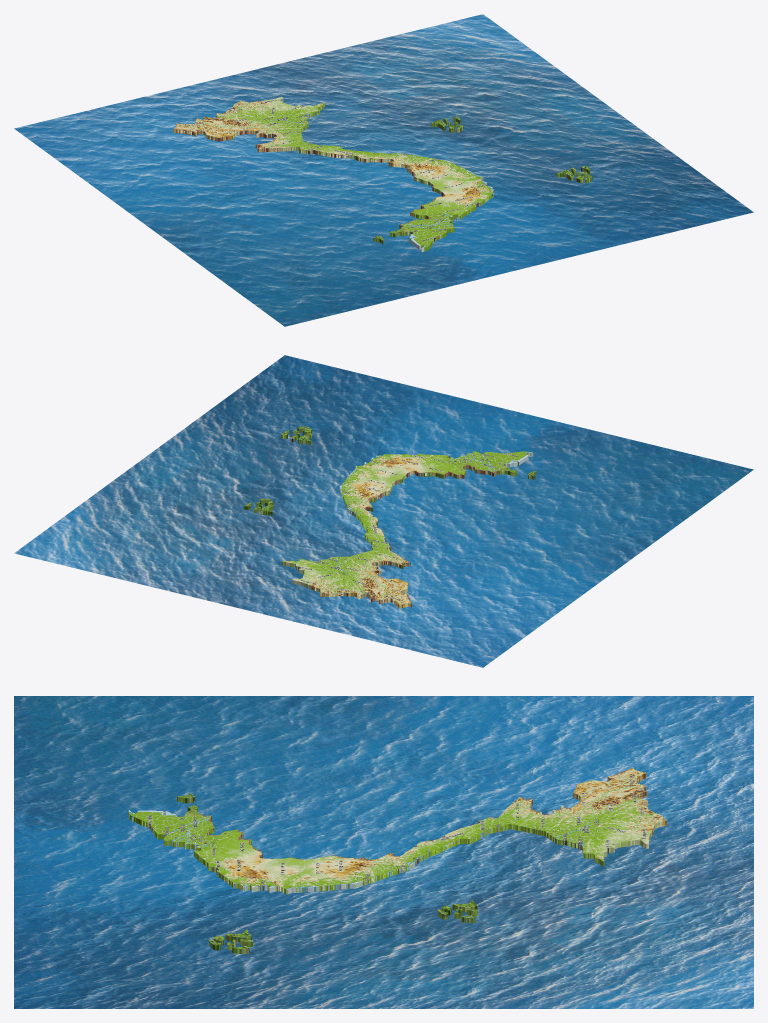
The model's file is mapvn.fbx.
3 renders of one model, top to bottom at view 1: azimuth 30°, elevation 25°; view 2: azimuth 150°, elevation 25°; view 3: azimuth 270°, elevation 25°, orthographic. The views are drawn at different scales.
Visible parts, largest first — view 1: pPlane1, nurbsToPoly7; view 2: pPlane1, nurbsToPoly7; view 3: pPlane1, nurbsToPoly7.
Boxes of the visible parts, <box> form: pPlane1: <box>14,14,753,326</box>; nurbsToPoly7: <box>173,97,592,252</box>; pPlane1: <box>14,355,753,667</box>; nurbsToPoly7: <box>244,426,536,608</box>; pPlane1: <box>14,696,753,1008</box>; nurbsToPoly7: <box>128,767,667,953</box>.
Bounding box in the file's own units: 40 × 0.3226 × 40.
